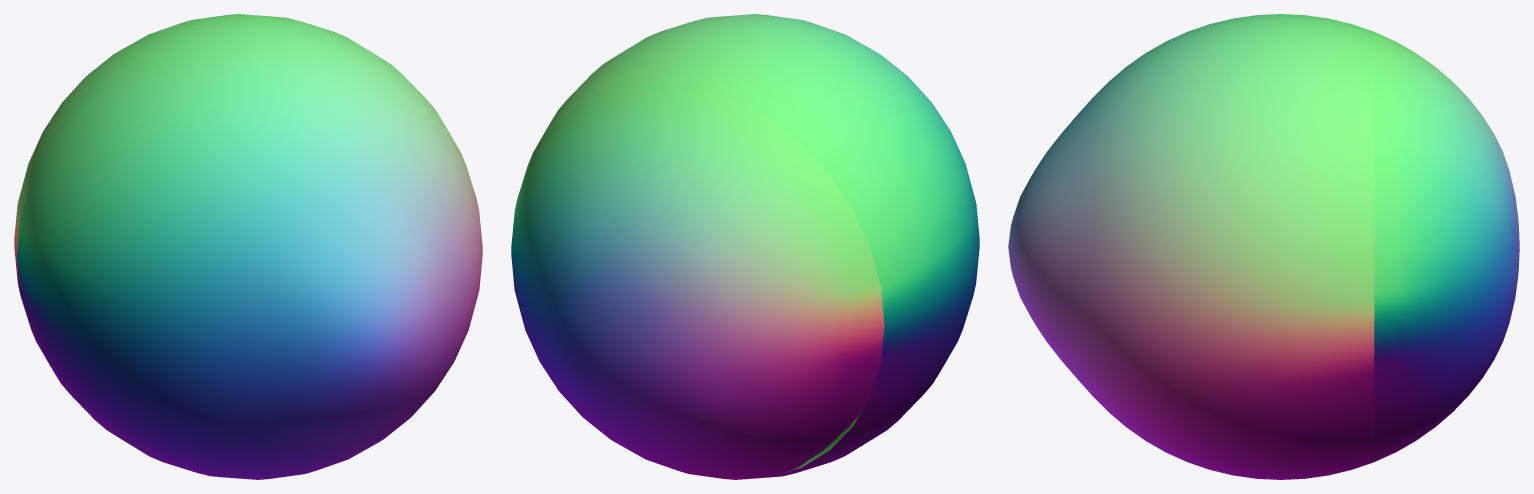
File: showcase.glb
3 views of the same model, side by side, from view 1: azimuth 30°, elevation 25°; view 2: azimuth 150°, elevation 25°; view 3: azimuth 270°, elevation 25° (orthographic).
Visible parts, largest first — view 1: eye; view 2: eye; view 3: eye.
Boxes of the visible parts, x1,y1,x2,y2 form: eye: [14, 14, 482, 479]; eye: [511, 14, 979, 479]; eye: [1008, 14, 1519, 479].
Size of the model in its own units: 1 by 1 by 1.1.
Materials: 1 (1 with a texture image).
